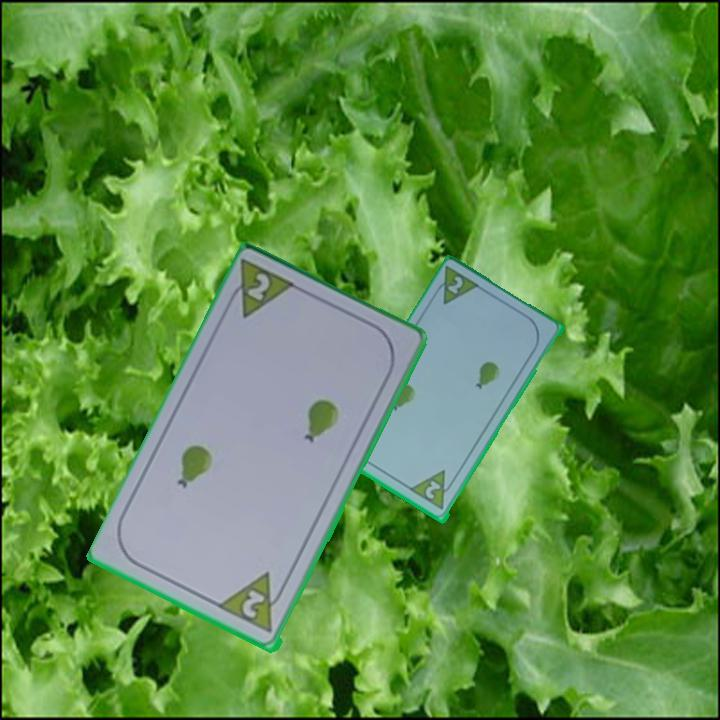2p: (429, 263, 484, 308), (238, 586, 269, 622), (243, 270, 274, 305), (421, 477, 444, 502)
